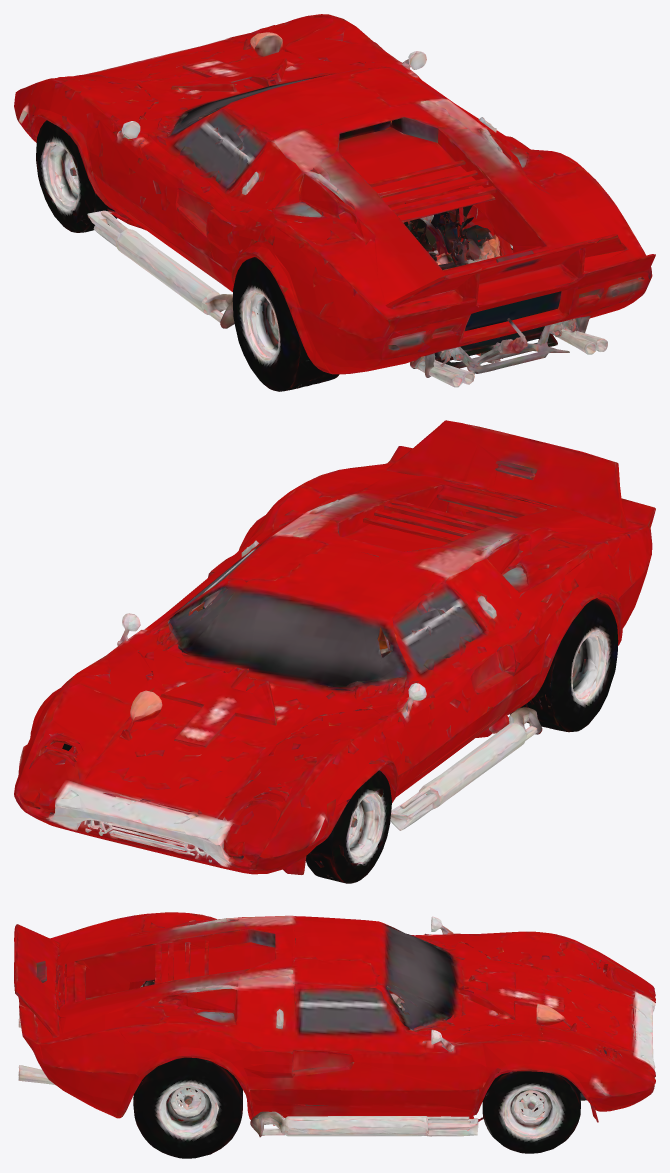
File: hero-prototype-rosso.glb
3 renders of one model, top to bottom at view 1: azimuth 30°, elevation 25°; view 2: azimuth 150°, elevation 25°; view 3: azimuth 270°, elevation 25°, orthographic. The views are drawn at different scales.
Visible parts, largest first — view 1: geometry_0; view 2: geometry_0; view 3: geometry_0.
Part boxes in pixels (box(x1,y1,x2,y2)): geometry_0: box(14, 14, 655, 391); geometry_0: box(14, 420, 655, 883); geometry_0: box(14, 912, 655, 1158).
Size of the model in its own units: 0.4838 by 0.2599 by 1.
Materials: 1 (1 with a texture image).
